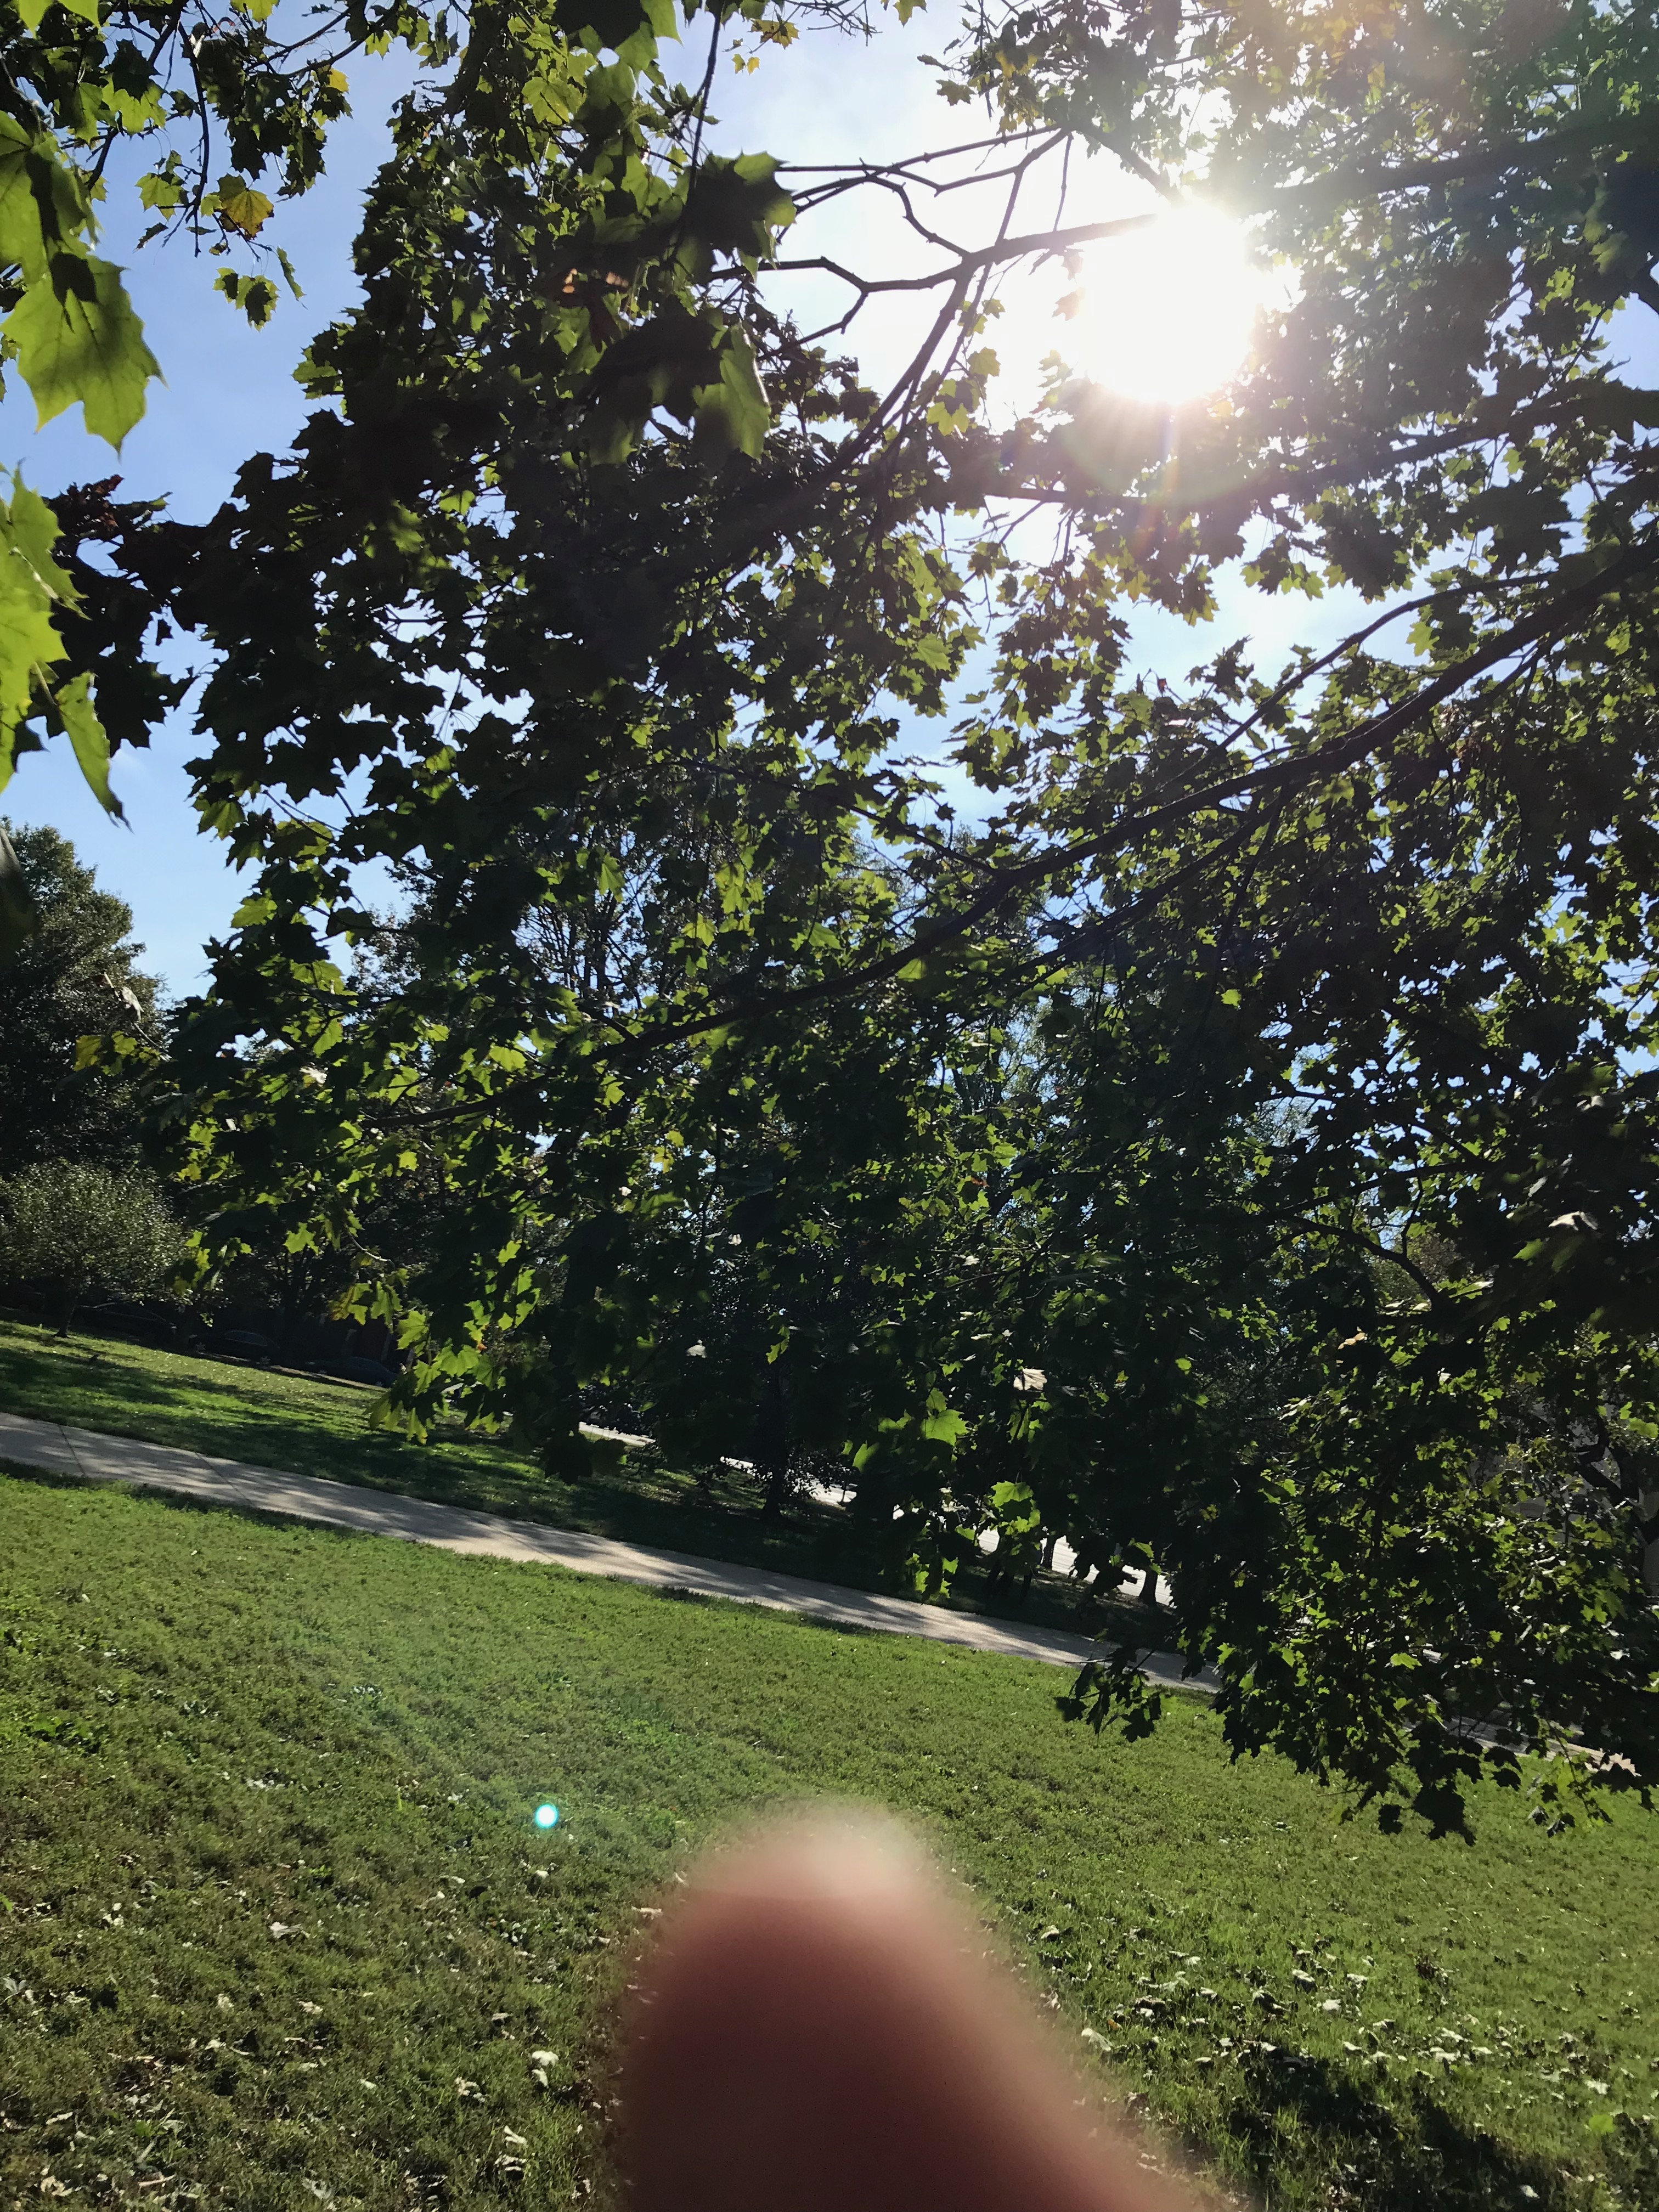flare: (535, 1803, 559, 1829)
